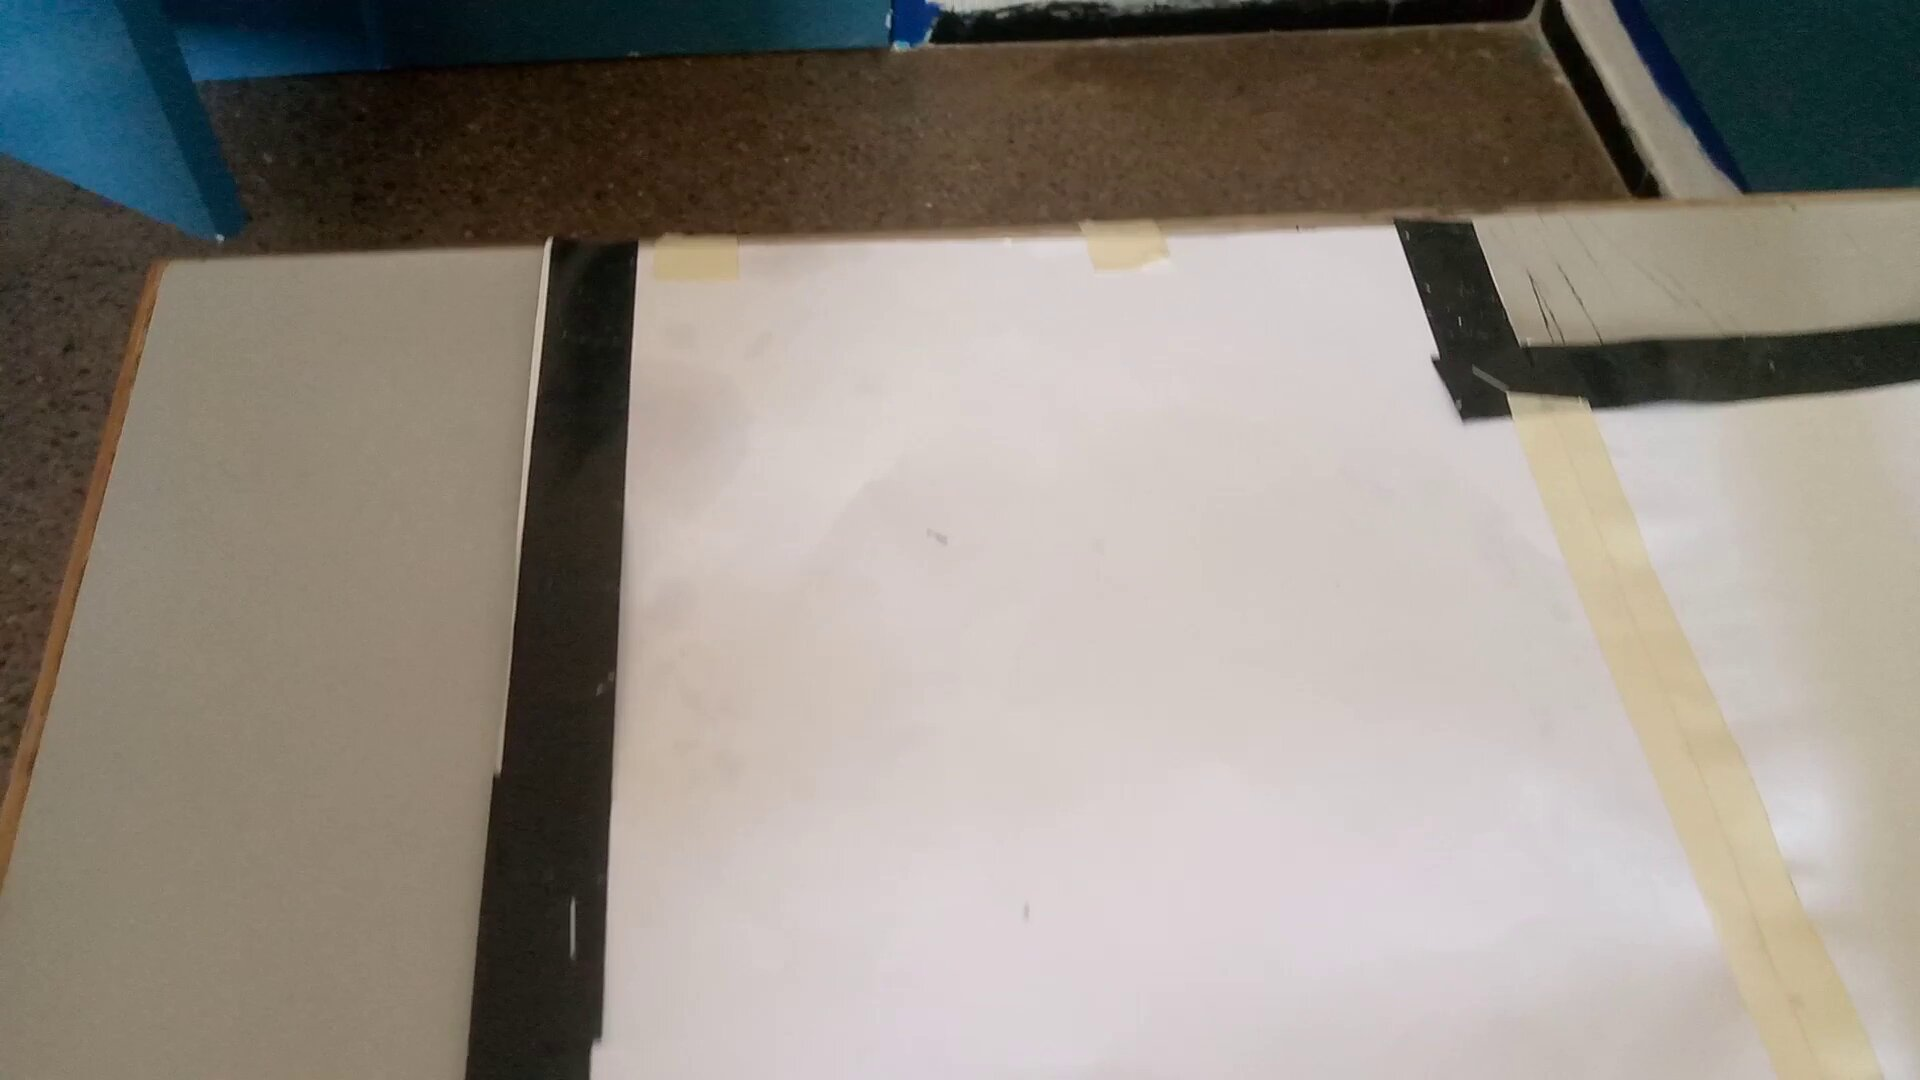right: (534, 243, 1911, 1080)
